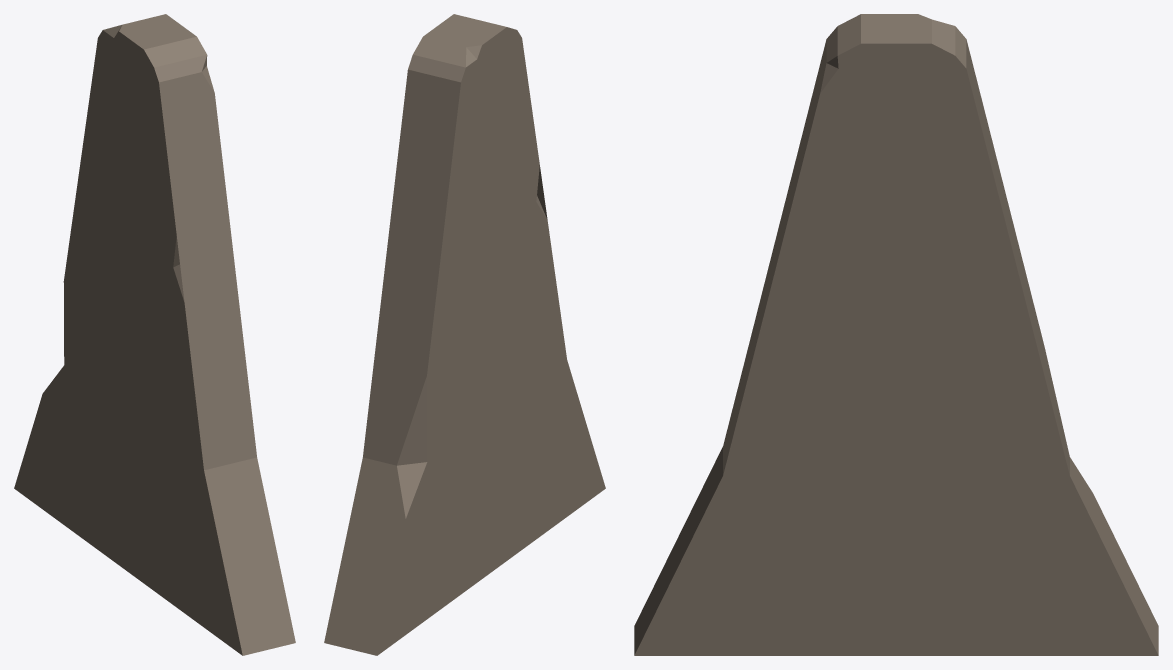
The model's file is SM_Bld_Stone_Wall_Large_End_01.glb.
The picture shows the model from 3 angles, left to right: view 1: azimuth 30°, elevation 25°; view 2: azimuth 150°, elevation 25°; view 3: azimuth 270°, elevation 25°; orthographic projection. The views are drawn at different scales.
Visible parts, largest first — view 1: SM_Bld_Stone_Wall_Large_End_01_00; view 2: SM_Bld_Stone_Wall_Large_End_01_00; view 3: SM_Bld_Stone_Wall_Large_End_01_00.
Part boxes in pixels (<box>): SM_Bld_Stone_Wall_Large_End_01_00: <box>14,14,295,655</box>; SM_Bld_Stone_Wall_Large_End_01_00: <box>324,14,605,655</box>; SM_Bld_Stone_Wall_Large_End_01_00: <box>634,14,1158,655</box>.
Bounding box in the file's own units: 0.826 × 7.93 × 6.16.
1 material, 1 textured.
